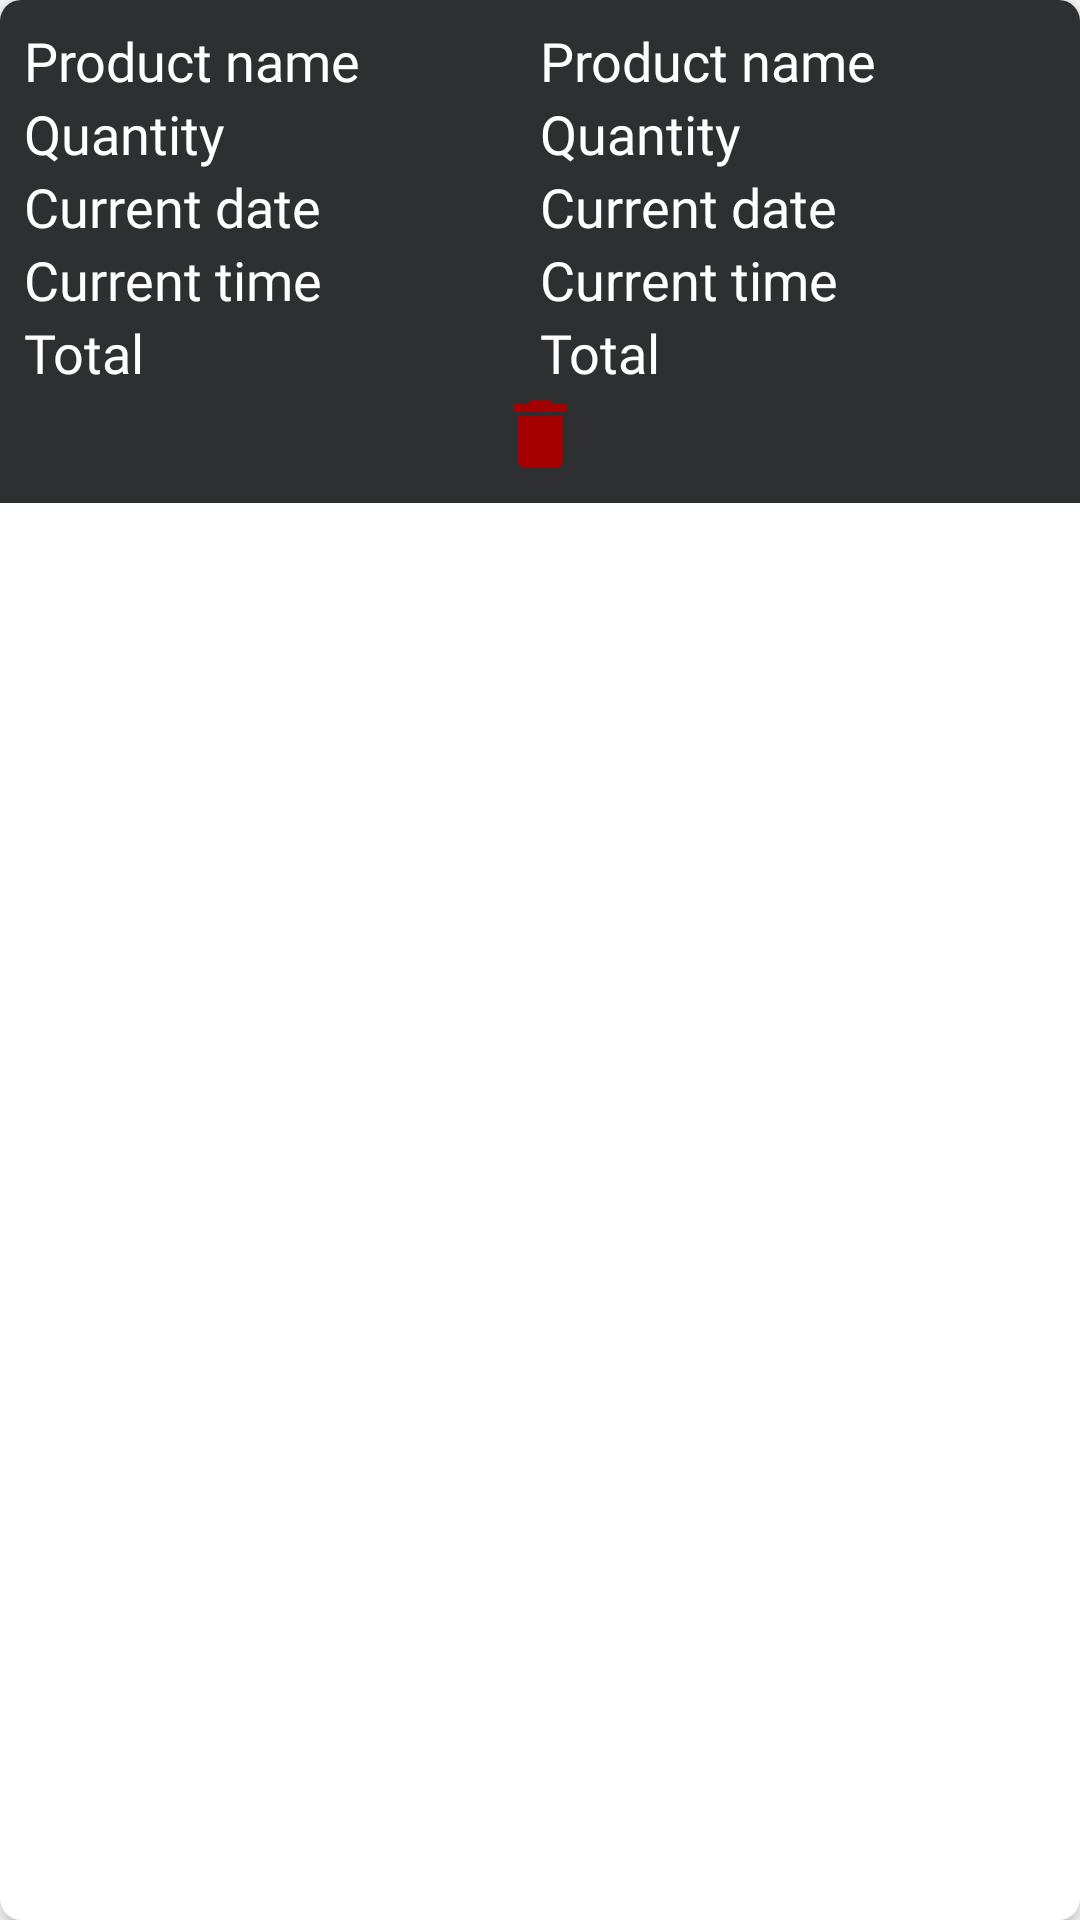

Icons on this 1080×1920 Android screen, each with the point to tap as (x=x, y=y):
delete: (x=540, y=434)
